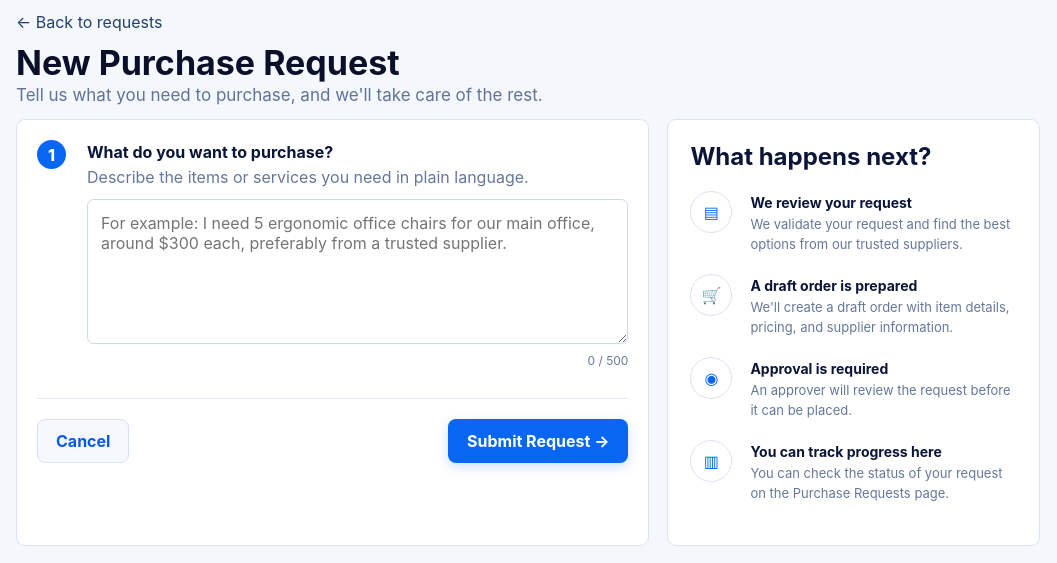
Test: NewPurchaseRequest › shows safe server validation errors
Step 1. Replace the text in the text box named "What do you want to purchase?" with "I need two laptop stands" → [358, 272], box x1=87 y1=199 x2=628 y2=344
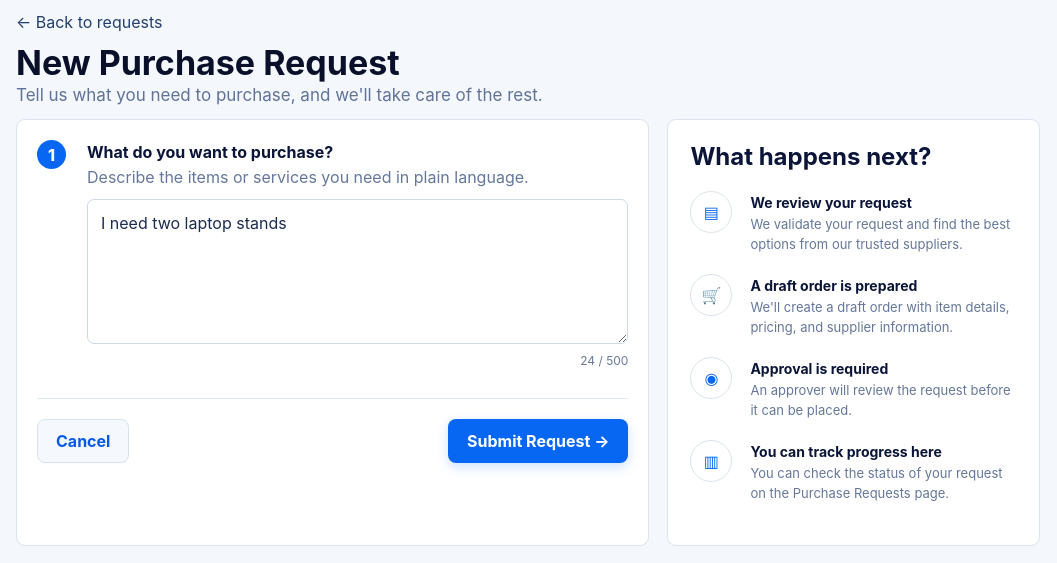
Step 2. Click the button "Submit Request →" → [538, 441], box x1=448 y1=419 x2=628 y2=463
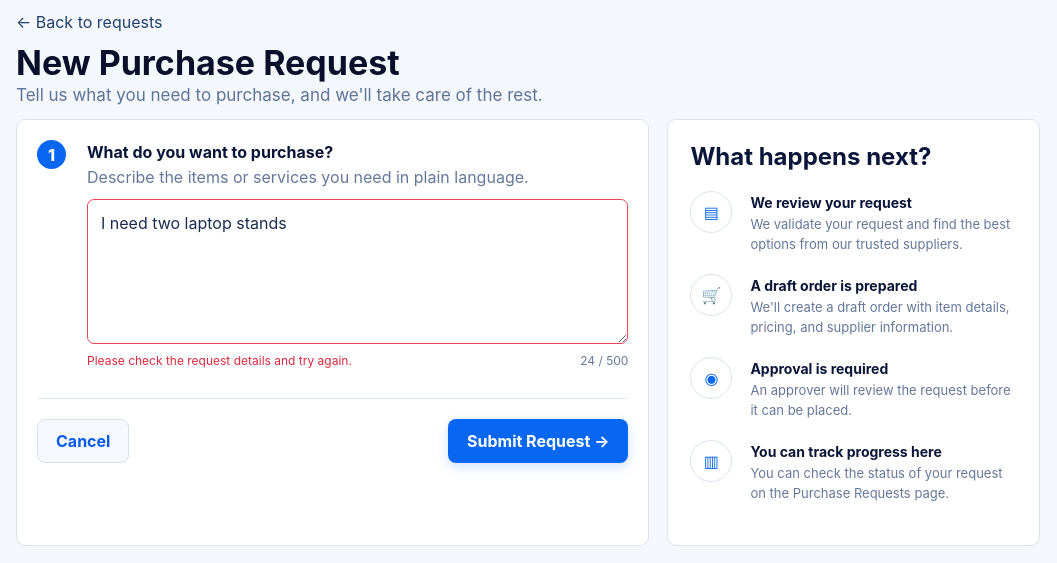
Expected: the message shows "Please check the request details", x1=87 y1=353 x2=352 y2=368
